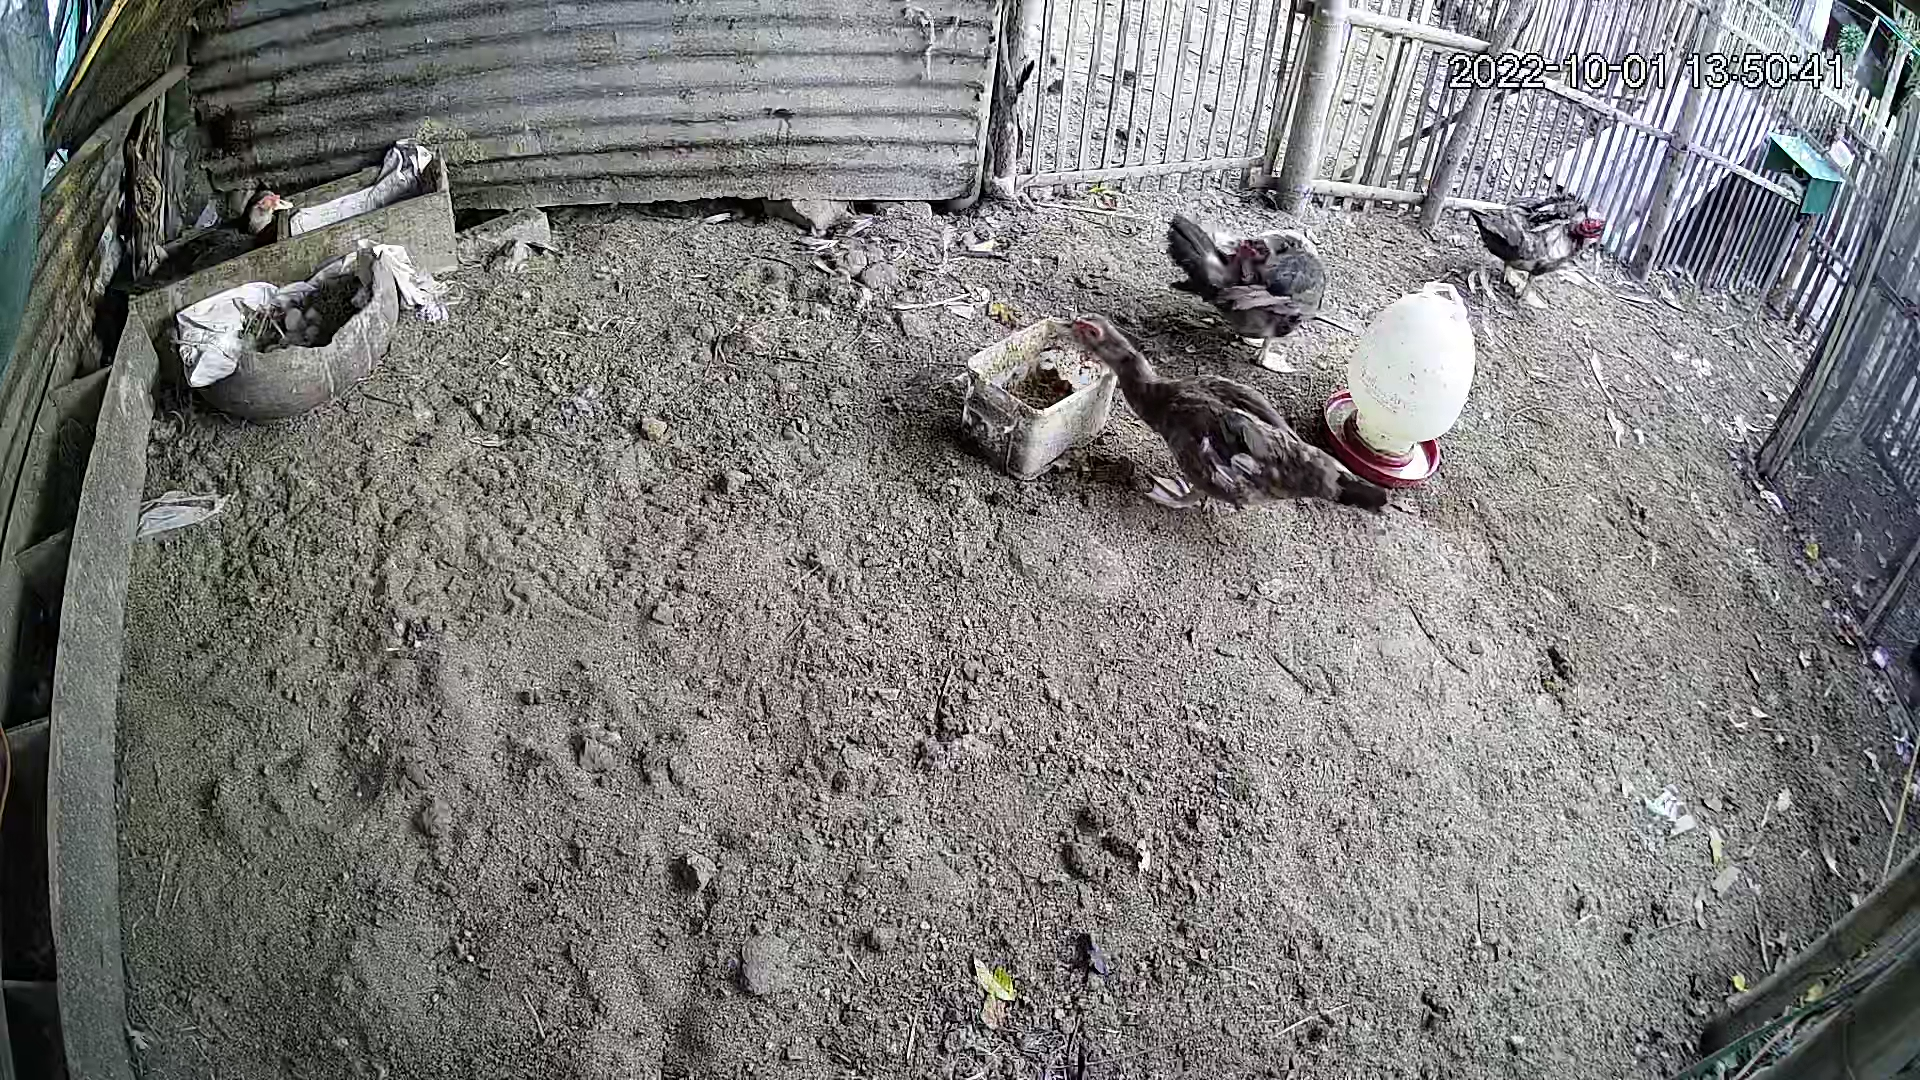Mengeram: (117, 145, 435, 444)
